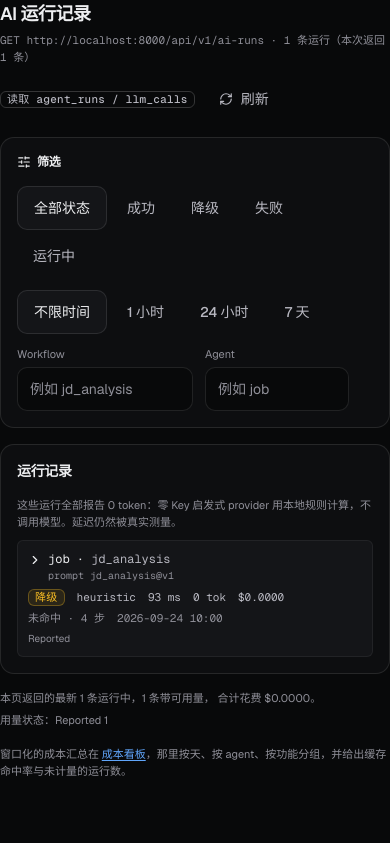
the AI runs page › opens the same drill-down from the narrow layout
Check: the heading "运行记录" is shown, box [17, 462, 72, 480]
Step 1. Click the button "job · jd_analysis prompt jd_analysis@v1" → (131, 559), box [28, 551, 362, 583]
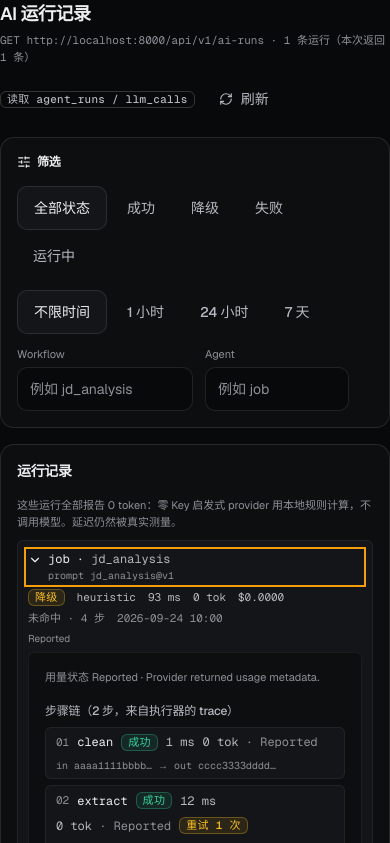
Check: the text "clean" is shown, box [77, 734, 113, 750]
